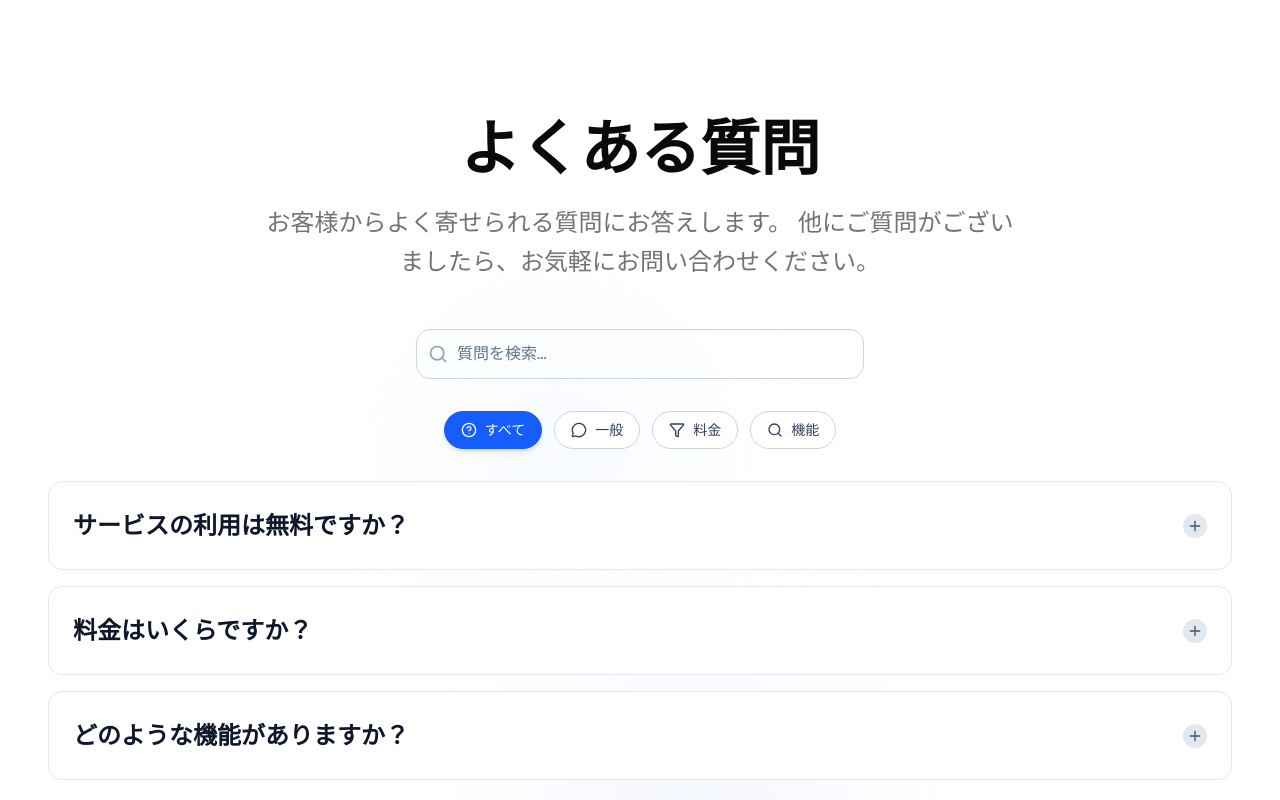
Scenario: FAQSection › カテゴリフィルターが正常に動作する
Click the button with test id "category-filter-pricing" at [695, 430], box [652,411,738,449]
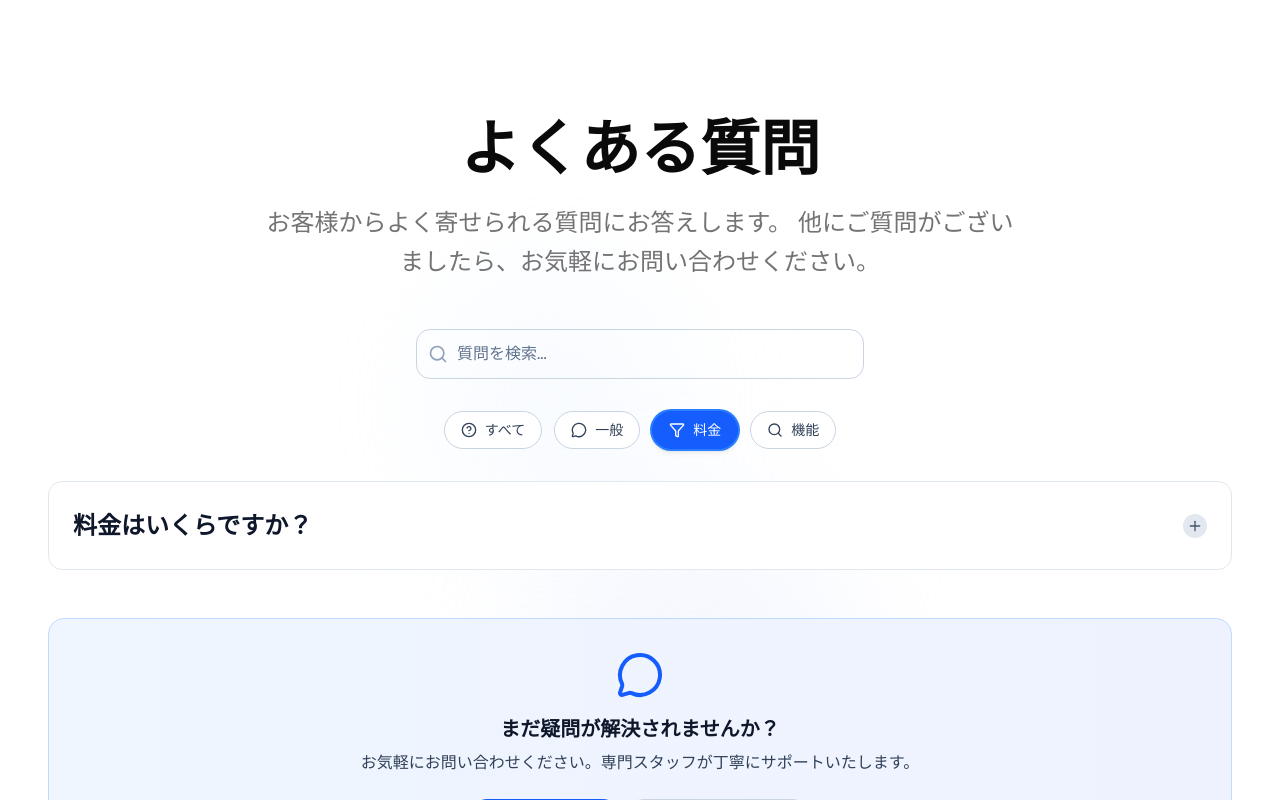
Expected: the heading "料金はいくらですか？" is shown, [73,506,328,545]
Expected: the button "サービスの利用は無料ですか？" is gone
